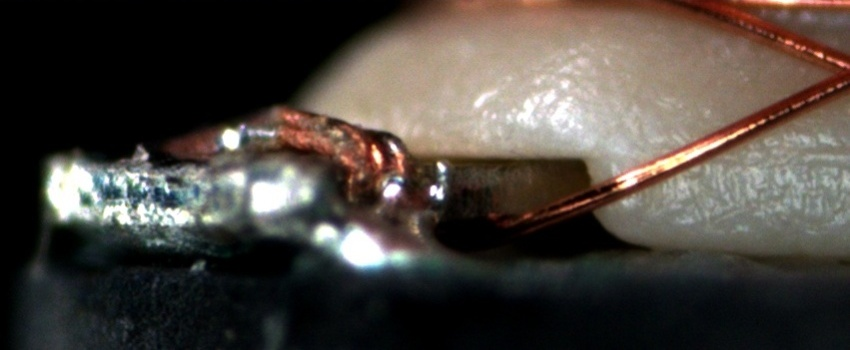CL: (803, 40, 850, 102)
DL: (705, 124, 849, 188)
TE: (253, 102, 416, 208)
